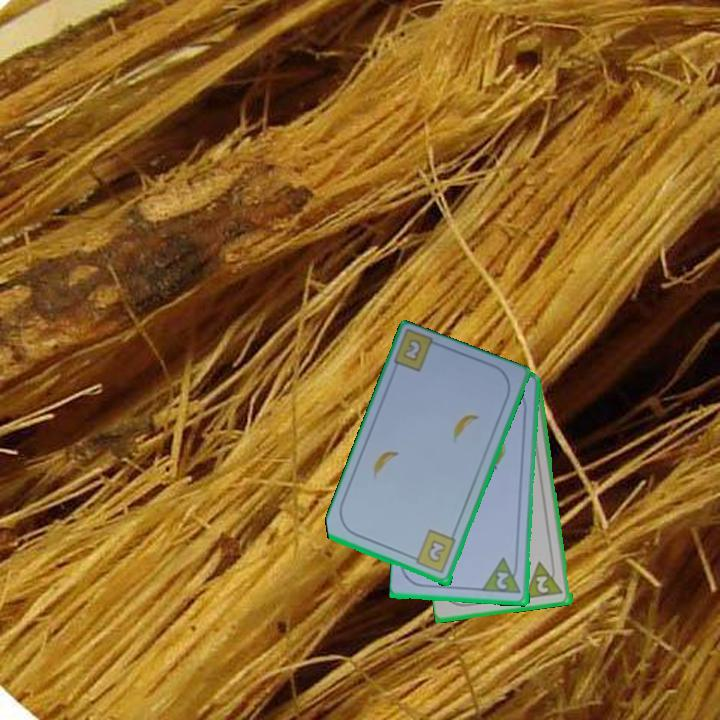2b: (407, 527, 459, 577), (402, 338, 423, 362)
2p: (523, 557, 566, 602), (480, 555, 524, 597)
